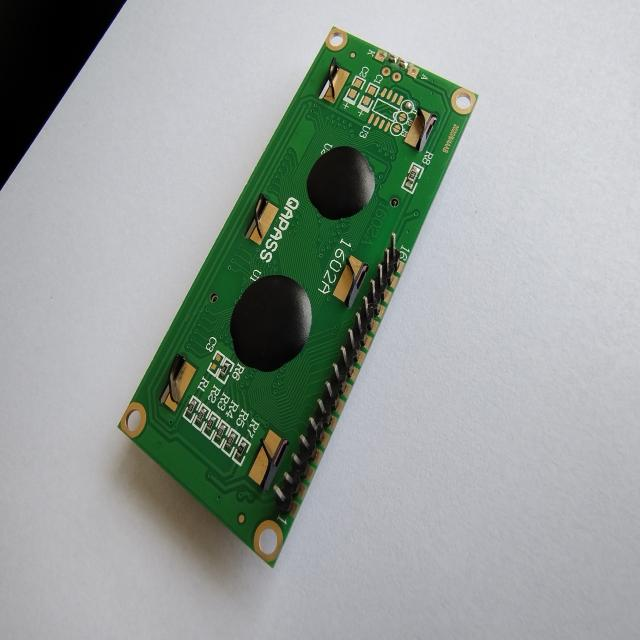lcd: (116, 24, 479, 569)
